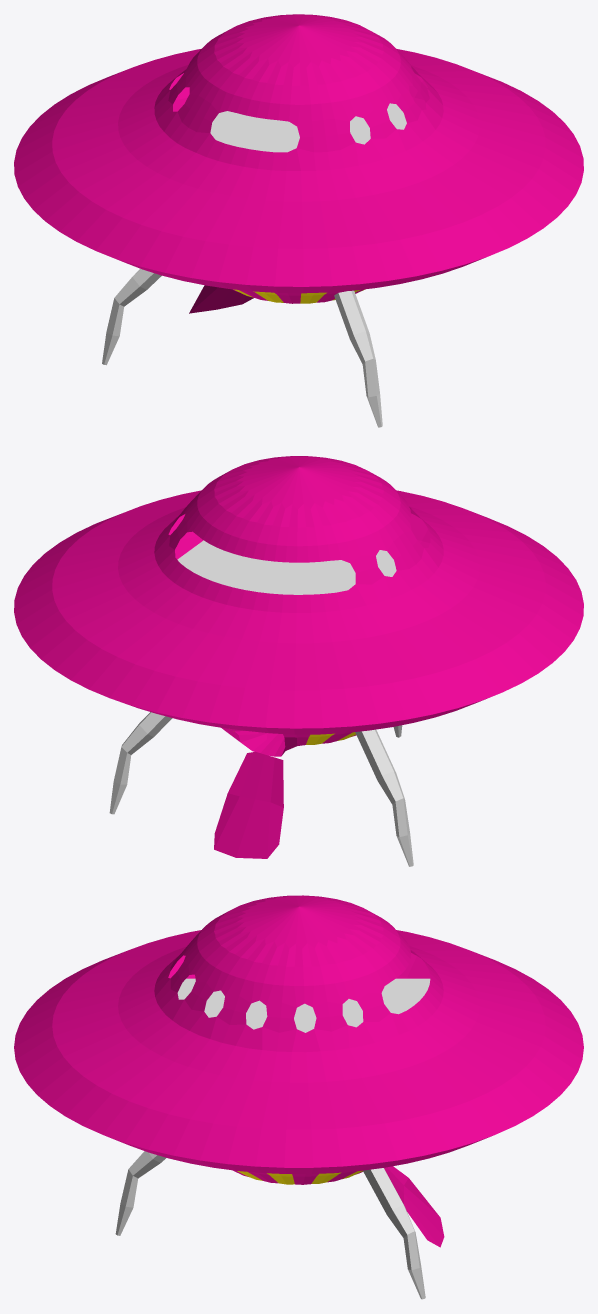
The model's file is Spaceship 2.fbx.
The picture shows the model from 3 angles, top to bottom: view 1: azimuth 30°, elevation 25°; view 2: azimuth 150°, elevation 25°; view 3: azimuth 270°, elevation 25°; orthographic projection.
Parts seen in each view (by area): view 1: Sphere, Plane, Cylinder.001, Cylinder, Plane.001; view 2: Sphere, Plane, Plane.001, Cylinder, Cylinder.002; view 3: Sphere, Plane, Cylinder.002, Plane.001, Cylinder.001.
Boxes of the visible parts, x1,y1,x2,y2 form: Sphere: (14,14,583,303); Plane: (210,103,406,152); Cylinder.001: (334,290,382,427); Cylinder: (102,269,161,365); Plane.001: (189,285,253,313); Sphere: (14,456,583,756); Plane: (177,540,396,594); Plane.001: (214,751,283,858); Cylinder: (355,729,413,866); Cylinder.002: (109,712,172,814); Sphere: (14,895,583,1184); Plane: (177,978,430,1032); Cylinder.002: (363,1168,425,1299); Plane.001: (384,1166,444,1247); Cylinder.001: (115,1151,166,1235).
Size of the model in its own units: 350 by 227 by 350.
